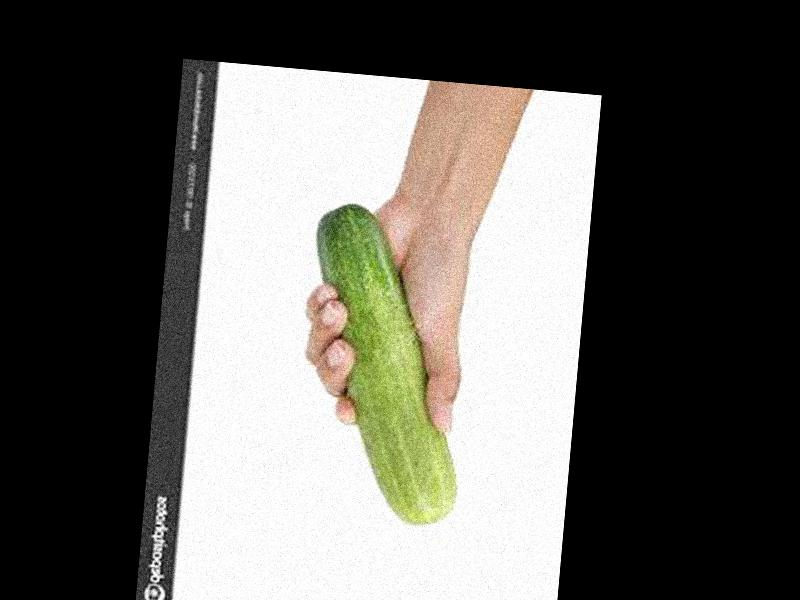Cucumber: (294, 200, 483, 526)
